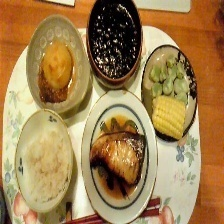rice: (17, 126, 75, 206)
